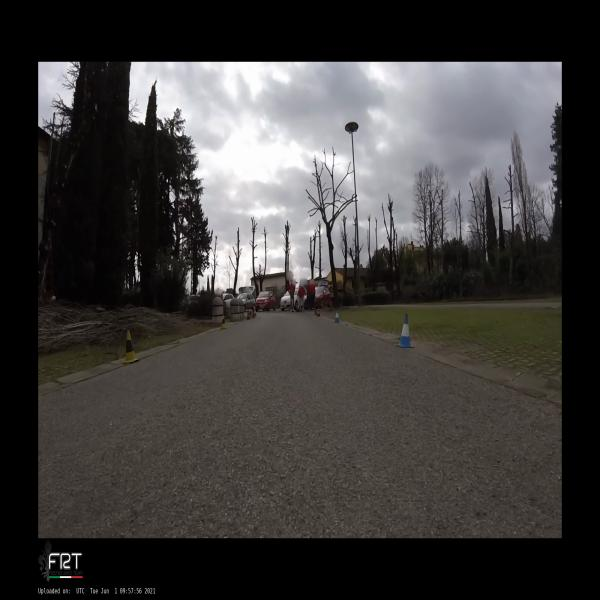blue_cone: (396, 314, 414, 348), (333, 309, 340, 323)
large_orange_cone: (247, 310, 250, 320), (317, 308, 320, 316), (255, 307, 256, 316)
unknown_cone: (252, 309, 255, 318), (315, 307, 316, 315)
yellow_cone: (122, 330, 139, 363), (220, 315, 227, 329)
